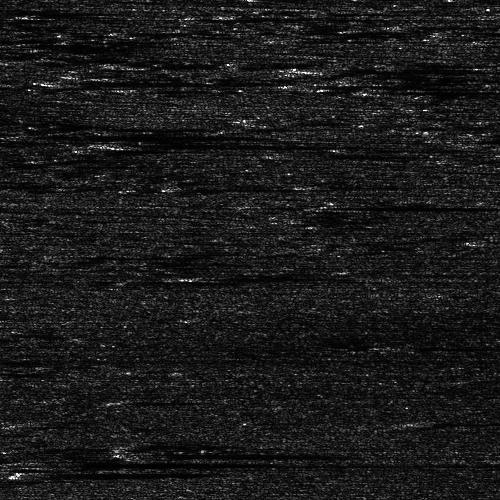object: (0, 74, 144, 85), (83, 139, 156, 150), (7, 467, 70, 478), (294, 61, 347, 74), (197, 183, 260, 190), (283, 78, 314, 91), (381, 341, 422, 350), (348, 87, 411, 92), (289, 203, 352, 208), (446, 237, 487, 244), (18, 460, 49, 469), (169, 273, 222, 278), (121, 449, 162, 454), (0, 133, 37, 138), (115, 438, 146, 443)
shadow: (120, 139, 379, 150), (320, 61, 500, 74), (66, 74, 275, 85), (299, 78, 467, 91), (38, 467, 222, 478), (34, 460, 172, 469), (17, 133, 218, 138), (142, 449, 333, 454), (402, 341, 500, 350), (321, 203, 484, 208), (195, 273, 351, 278), (228, 183, 334, 190), (380, 87, 500, 92), (130, 438, 178, 443), (466, 237, 500, 244)
